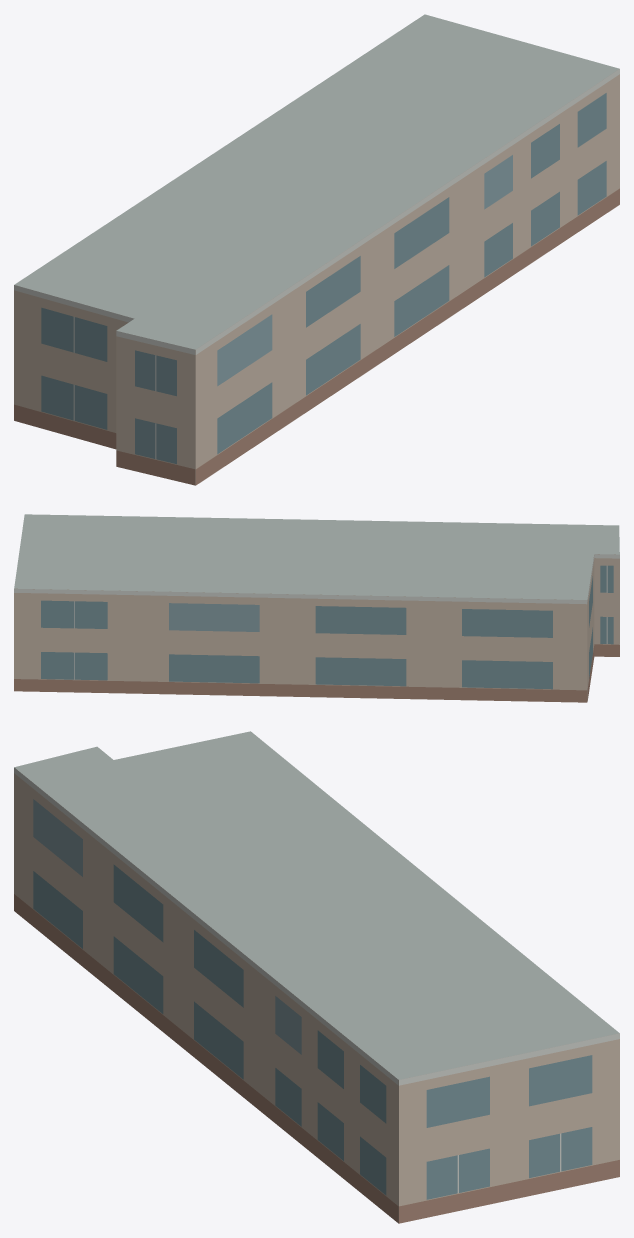
The model's file is survey-upis-32484562.glb.
3 views of the same model, one above another, from view 1: azimuth 30°, elevation 25°; view 2: azimuth 150°, elevation 25°; view 3: azimuth 270°, elevation 25° (orthographic). The views are drawn at different scales.
Parts seen in each view (by area): view 1: survey-upis-32484562.tmp; view 2: survey-upis-32484562.tmp; view 3: survey-upis-32484562.tmp.
Boxes of the visible parts, left/top/right/bottom form: survey-upis-32484562.tmp: left=14, top=14, right=619, bottom=485; survey-upis-32484562.tmp: left=14, top=514, right=619, bottom=702; survey-upis-32484562.tmp: left=14, top=731, right=619, bottom=1223.
Size of the model in its own units: 31.76 by 6.1 by 23.32.
